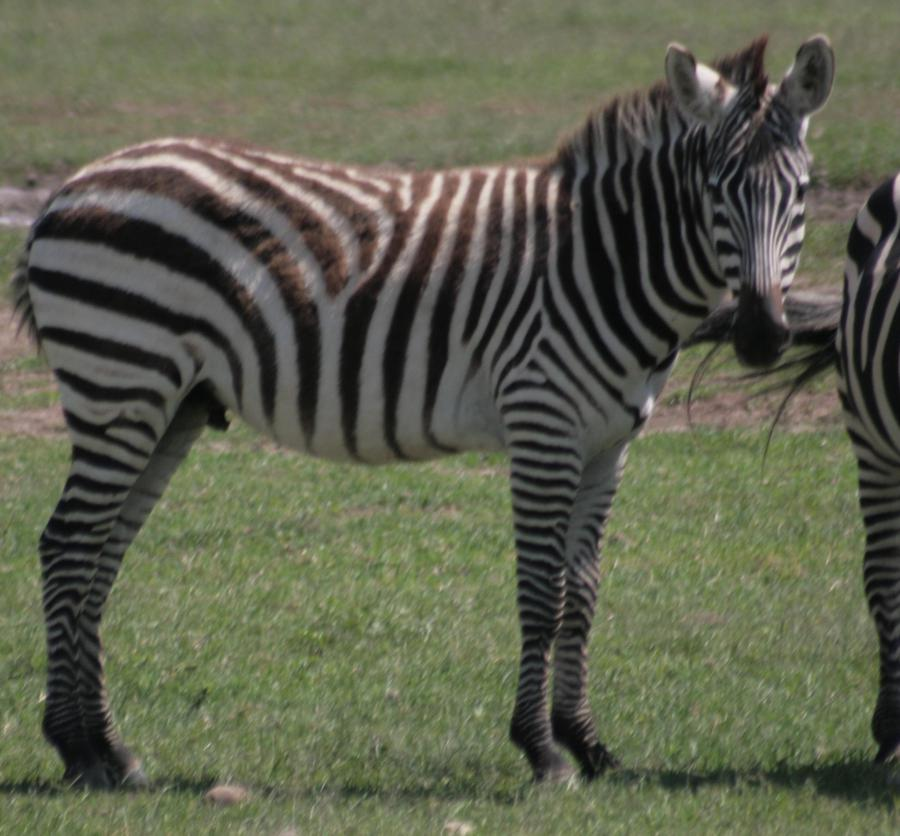zebra_plains: (26, 125, 655, 480)
